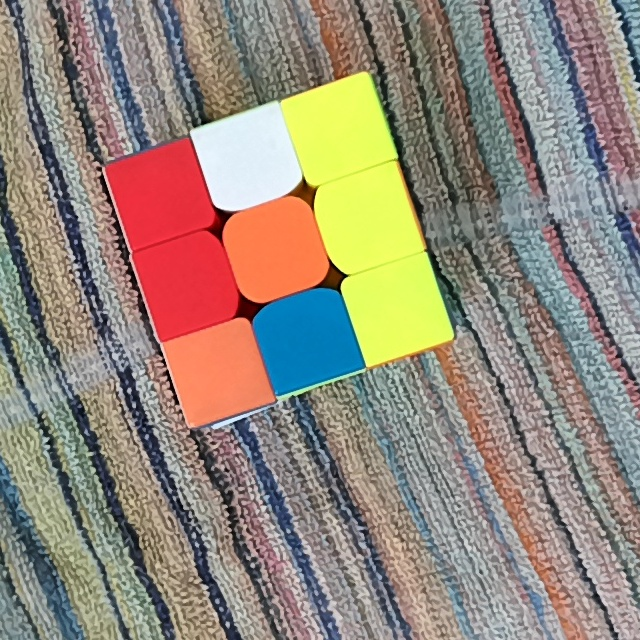tile: (121, 162, 197, 228), (335, 182, 403, 254), (183, 338, 255, 406), (304, 96, 377, 163), (210, 125, 285, 190), (242, 214, 313, 282), (151, 249, 222, 317), (274, 303, 344, 371), (364, 275, 430, 343)
